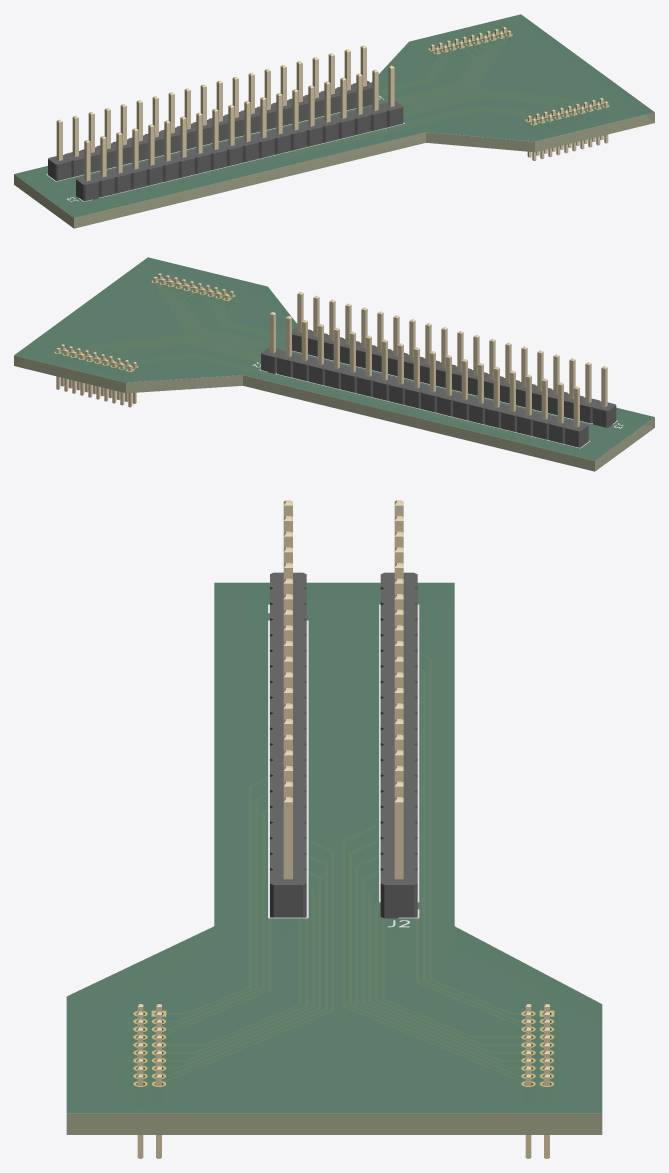
File: pcb.glb
3 renders of one model, top to bottom at view 1: azimuth 30°, elevation 25°; view 2: azimuth 150°, elevation 25°; view 3: azimuth 270°, elevation 25°, orthographic. The views are drawn at different scales.
Parts seen in each view (by area): view 1: SHAPE_912_IndexedFaceSet, SHAPE_909_IndexedFaceSet, SHAPE_910_IndexedFaceSet, SHAPE_5_IndexedFaceSet001, SHAPE_5_IndexedFaceSet, SHAPE_911_IndexedFaceSet, SHAPE_915_IndexedFaceSet; view 2: SHAPE_912_IndexedFaceSet, SHAPE_909_IndexedFaceSet, SHAPE_910_IndexedFaceSet, SHAPE_5_IndexedFaceSet, SHAPE_5_IndexedFaceSet001, SHAPE_911_IndexedFaceSet, SHAPE_915_IndexedFaceSet; view 3: SHAPE_912_IndexedFaceSet, SHAPE_909_IndexedFaceSet, SHAPE_911_IndexedFaceSet, SHAPE_910_IndexedFaceSet, SHAPE_5_IndexedFaceSet, SHAPE_5_IndexedFaceSet001, SHAPE_915_IndexedFaceSet, SHAPE_2_IndexedFaceSet, SHAPE_123_IndexedFaceSet001.
Part boxes in pixels (left/top/right/bottom): SHAPE_912_IndexedFaceSet: left=14, top=14, right=654, bottom=217; SHAPE_909_IndexedFaceSet: left=14, top=15, right=654, bottom=217; SHAPE_910_IndexedFaceSet: left=14, top=33, right=654, bottom=228; SHAPE_5_IndexedFaceSet001: left=76, top=101, right=402, bottom=184; SHAPE_5_IndexedFaceSet: left=48, top=80, right=372, bottom=164; SHAPE_911_IndexedFaceSet: left=263, top=30, right=609, bottom=160; SHAPE_915_IndexedFaceSet: left=46, top=95, right=404, bottom=201; SHAPE_912_IndexedFaceSet: left=14, top=257, right=654, bottom=460; SHAPE_909_IndexedFaceSet: left=14, top=258, right=654, bottom=460; SHAPE_910_IndexedFaceSet: left=14, top=278, right=654, bottom=471; SHAPE_5_IndexedFaceSet: left=261, top=347, right=588, bottom=431; SHAPE_5_IndexedFaceSet001: left=292, top=327, right=615, bottom=410; SHAPE_911_IndexedFaceSet: left=54, top=277, right=525, bottom=437; SHAPE_915_IndexedFaceSet: left=252, top=350, right=623, bottom=448; SHAPE_912_IndexedFaceSet: left=66, top=582, right=602, bottom=1113; SHAPE_909_IndexedFaceSet: left=67, top=583, right=601, bottom=1113; SHAPE_911_IndexedFaceSet: left=133, top=654, right=554, bottom=1086; SHAPE_910_IndexedFaceSet: left=66, top=1012, right=602, bottom=1134; SHAPE_5_IndexedFaceSet: left=380, top=572, right=417, bottom=884; SHAPE_5_IndexedFaceSet001: left=270, top=572, right=306, bottom=884; SHAPE_915_IndexedFaceSet: left=268, top=604, right=419, bottom=927; SHAPE_2_IndexedFaceSet: left=384, top=885, right=413, bottom=918; SHAPE_123_IndexedFaceSet001: left=273, top=885, right=302, bottom=917.
Size of the model in its own units: 0.0864 by 0.0141 by 0.0368.
